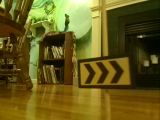right: (78, 56, 134, 87)
